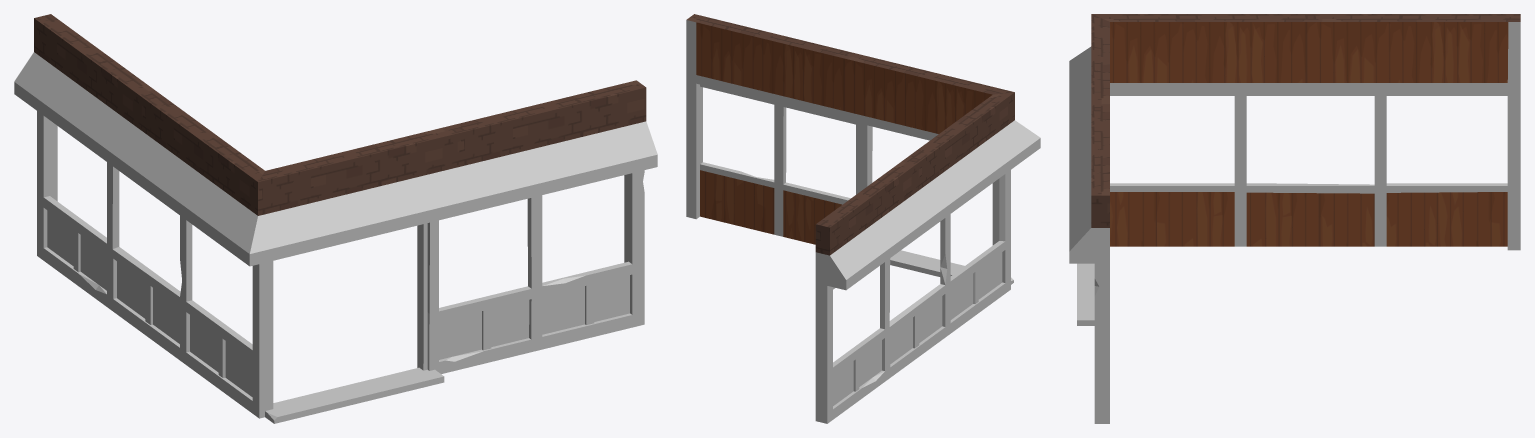
The model's file is SM_Bld_ShopFront_05.obj.
3 renders of one model, left to right at view 1: azimuth 30°, elevation 25°; view 2: azimuth 150°, elevation 25°; view 3: azimuth 270°, elevation 25°, orthographic. The views are drawn at different scales.
Parts seen in each view (by area): view 1: SM_Bld_ShopFront_05_0, SM_Bld_ShopFront_05_2; view 2: SM_Bld_ShopFront_05_0, SM_Bld_ShopFront_05_1, SM_Bld_ShopFront_05_2; view 3: SM_Bld_ShopFront_05_1, SM_Bld_ShopFront_05_0, SM_Bld_ShopFront_05_2.
Part boxes in pixels (<box>): SM_Bld_ShopFront_05_0: <box>14,52,657,423</box>; SM_Bld_ShopFront_05_2: <box>34,14,646,215</box>; SM_Bld_ShopFront_05_0: <box>686,20,1040,423</box>; SM_Bld_ShopFront_05_1: <box>696,22,992,244</box>; SM_Bld_ShopFront_05_2: <box>686,14,1014,255</box>; SM_Bld_ShopFront_05_1: <box>1110,22,1508,246</box>; SM_Bld_ShopFront_05_0: <box>1069,22,1520,423</box>; SM_Bld_ShopFront_05_2: <box>1091,14,1520,227</box>.
Bounding box in the file's own units: 5.37 × 3 × 5.37.
